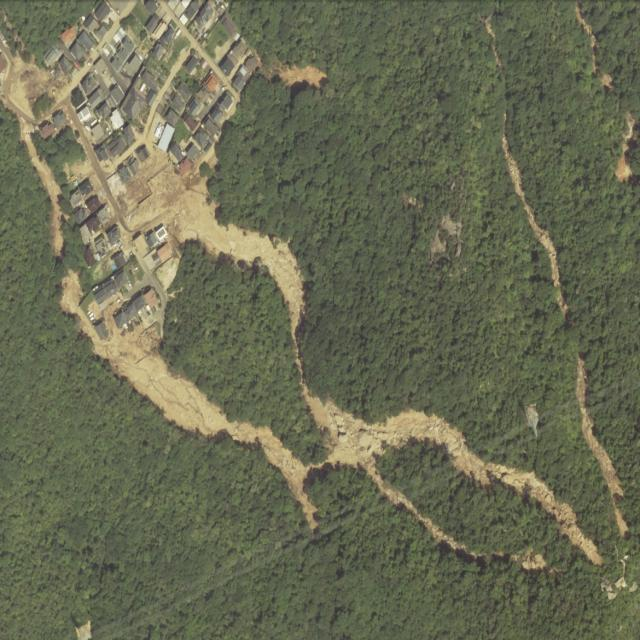landslide: (95, 344, 317, 530), (503, 113, 570, 317), (60, 272, 79, 315), (339, 436, 348, 443)
